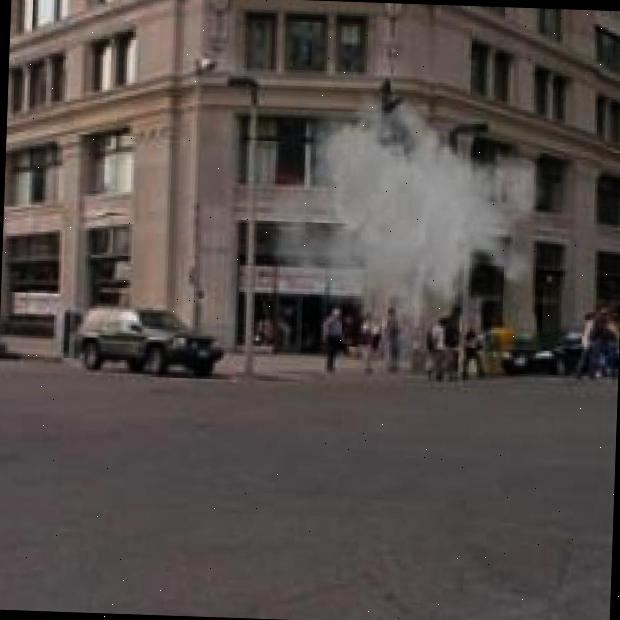smoke: (263, 85, 550, 358)
